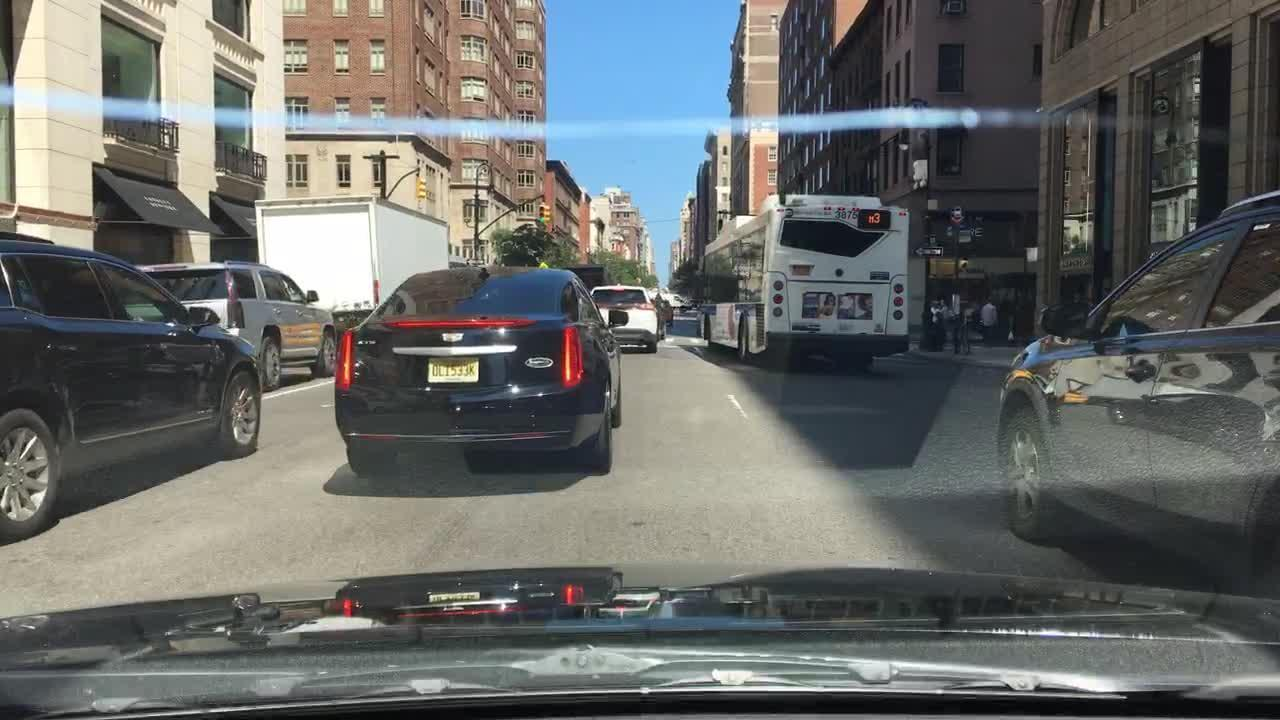cadillac: (438, 328, 466, 347)
